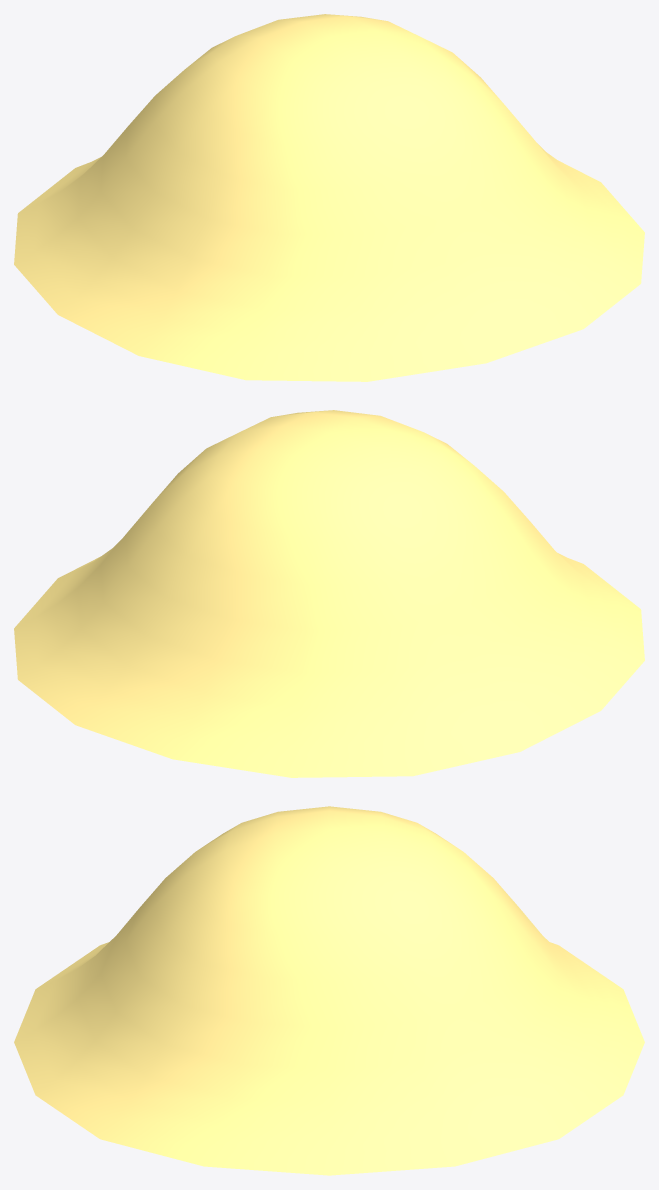
The model's file is DirtMound.glb.
The picture shows the model from 3 angles, top to bottom: view 1: azimuth 30°, elevation 25°; view 2: azimuth 150°, elevation 25°; view 3: azimuth 270°, elevation 25°; orthographic projection.
Visible parts, largest first — view 1: DirtMound; view 2: DirtMound; view 3: DirtMound.
Part boxes in pixels (bbox=[...]): DirtMound: bbox=[14, 14, 644, 381]; DirtMound: bbox=[14, 410, 644, 777]; DirtMound: bbox=[14, 806, 644, 1175].
Size of the model in its own units: 16.4 by 6.12 by 16.4.
